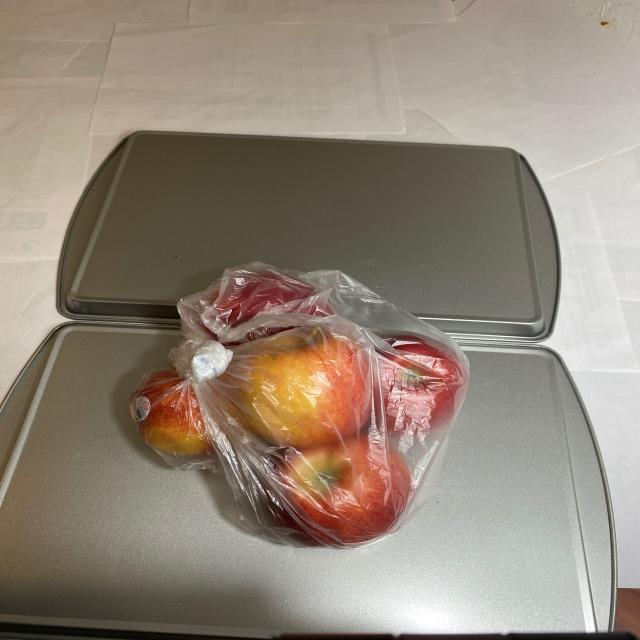apple: (126, 262, 473, 552)
